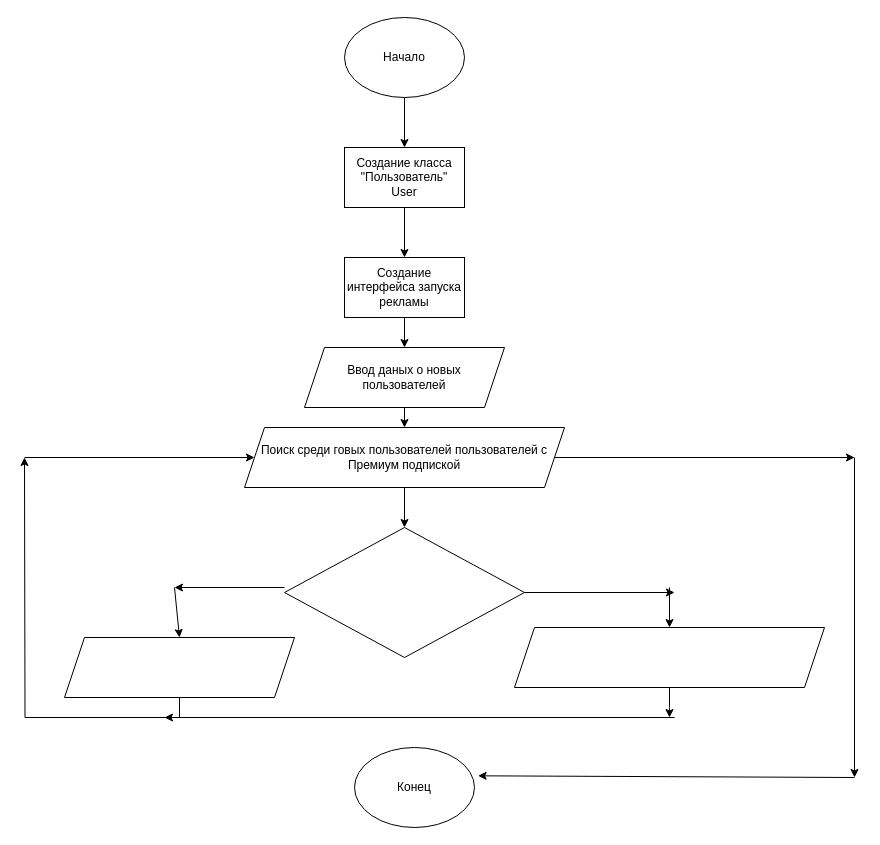
The diagram is 880 pixels wide and 845 high, and some of its shapes have lost their labels. The box of each missing label's shape, as (x1, y1, x2, y2) in pixels:
Показ рекламы: (514, 626, 824, 688)
Приветствие по имени: (64, 636, 294, 698)
Проверка наличия Премиум подписки: (284, 526, 524, 658)
